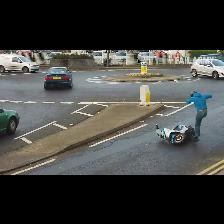person: (187, 91, 211, 142)
